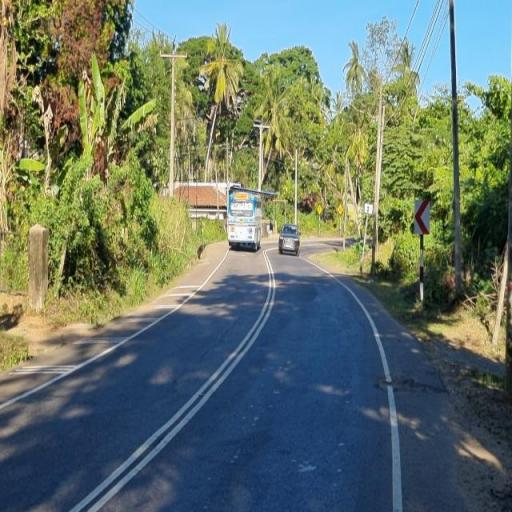double_white_line: (72, 246, 279, 511)
